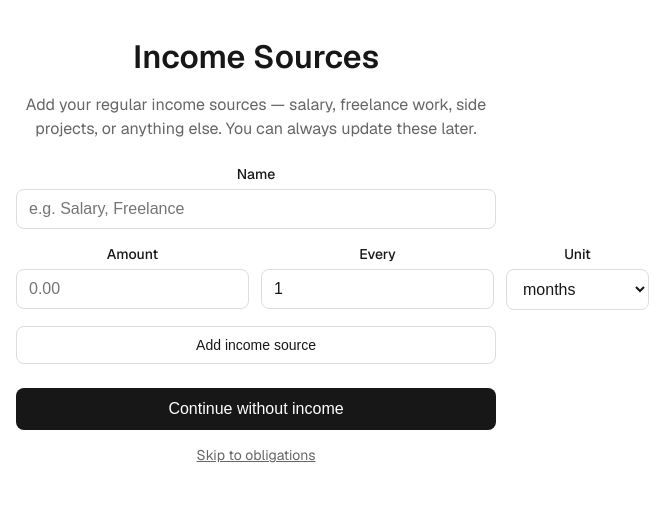
Scenario: OnboardingManualIncomePage › shows an error when name is empty
Type "5000" into the number field labelled "Amount".
click(132, 289); type("5000")  # box [16,269,249,309]
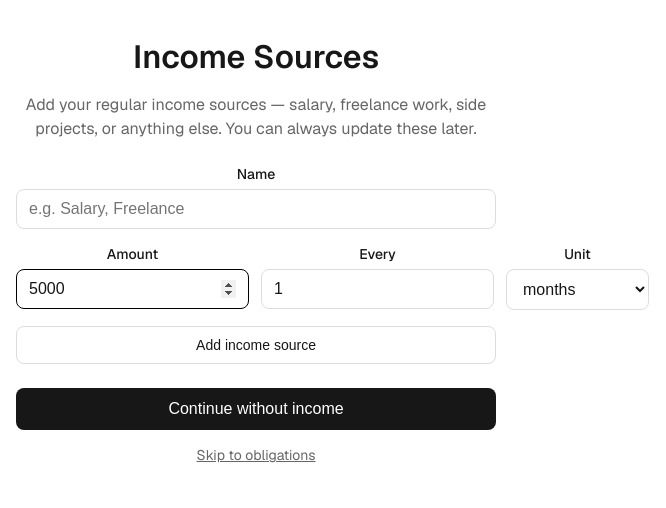
Click the button "Add income source".
click(256, 345)  # box [16,326,496,364]
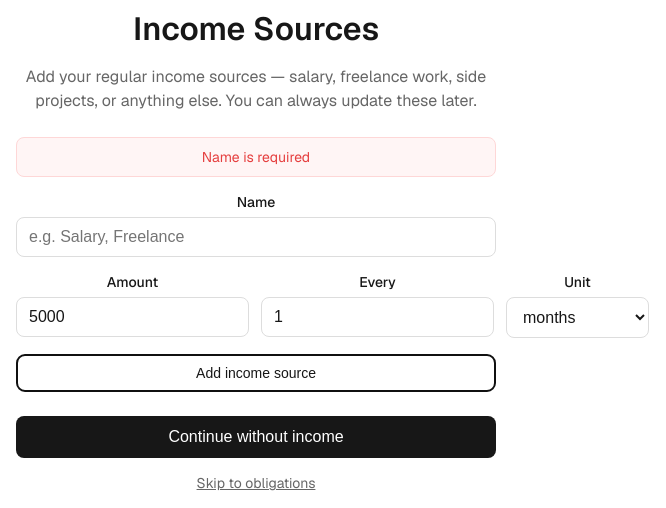
Expected: the message reads "Name is required", [202,148,310,166]
